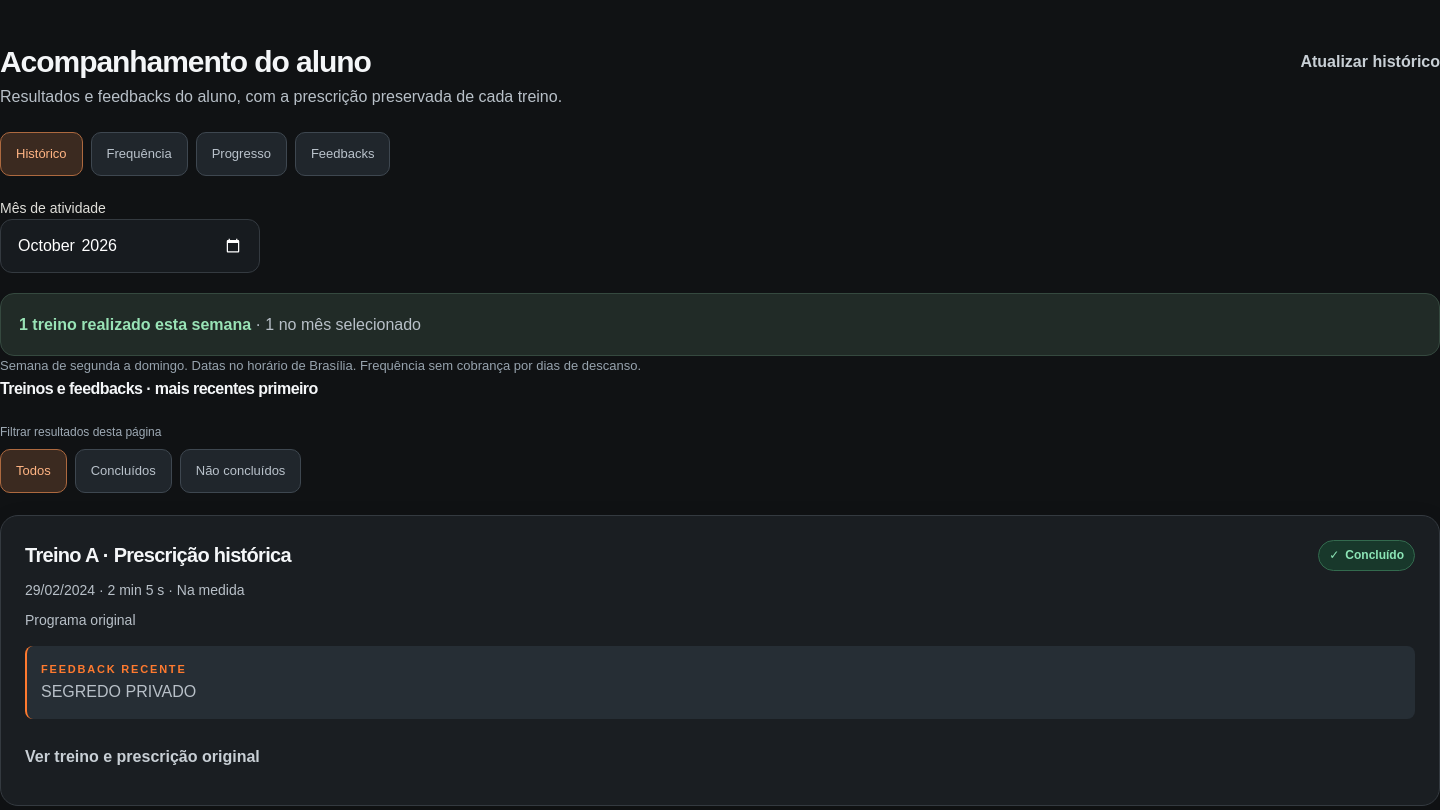
Test case: shows recent private feedback only in authorized coach view and excludes sharing there
expect the text "FEEDBACK RECENTE" is shown: met, box [41, 663, 186, 675]
expect the text "SEGREDO PRIVADO" is shown: met, box [41, 683, 196, 700]
What coordinates should you click on to do the following:
click the button "Ver treino e prescrição original"
I would click on:
 (142, 757)
Its box is [25, 733, 260, 781].
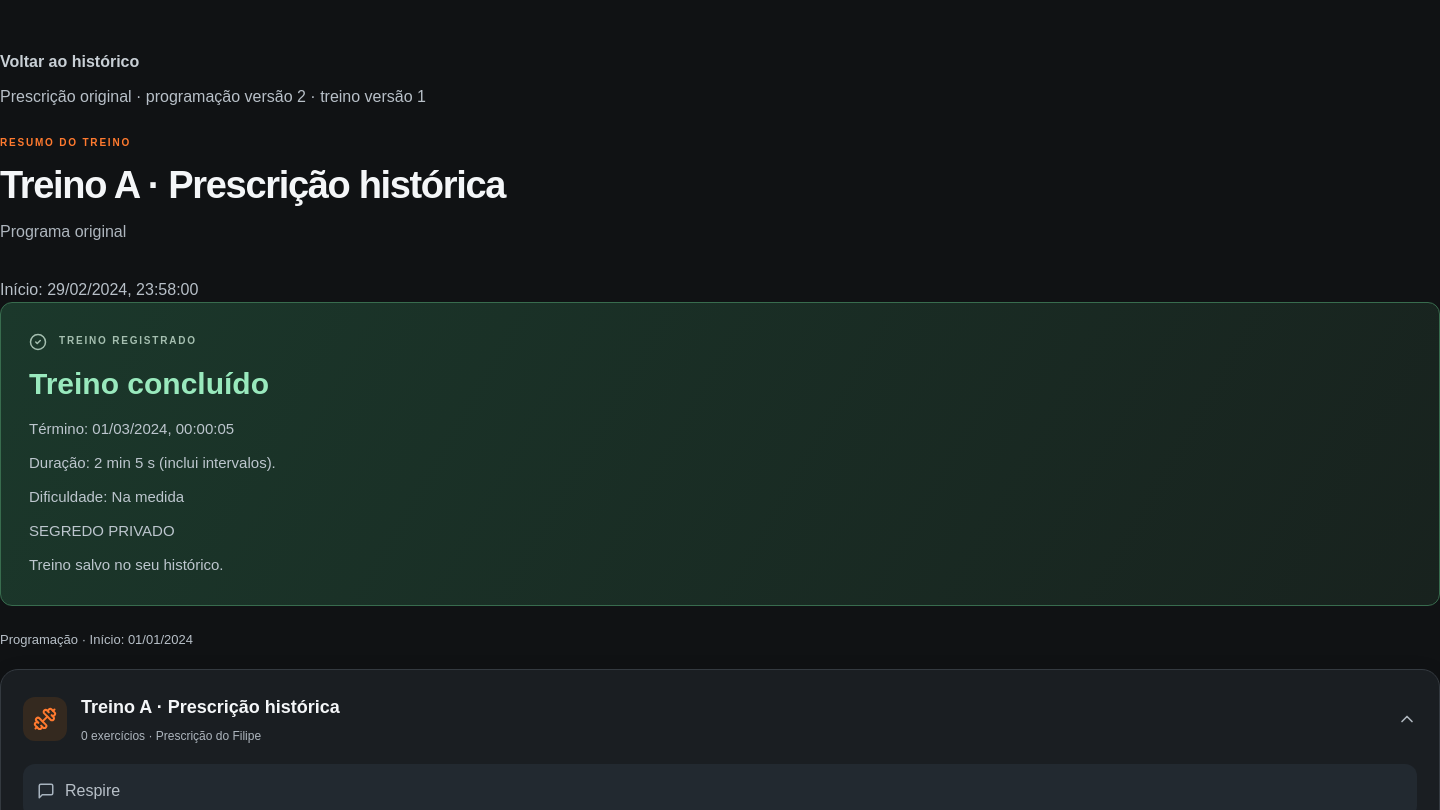
expect the text "Treino salvo no seu histórico." is shown: met, box [29, 556, 224, 574]
